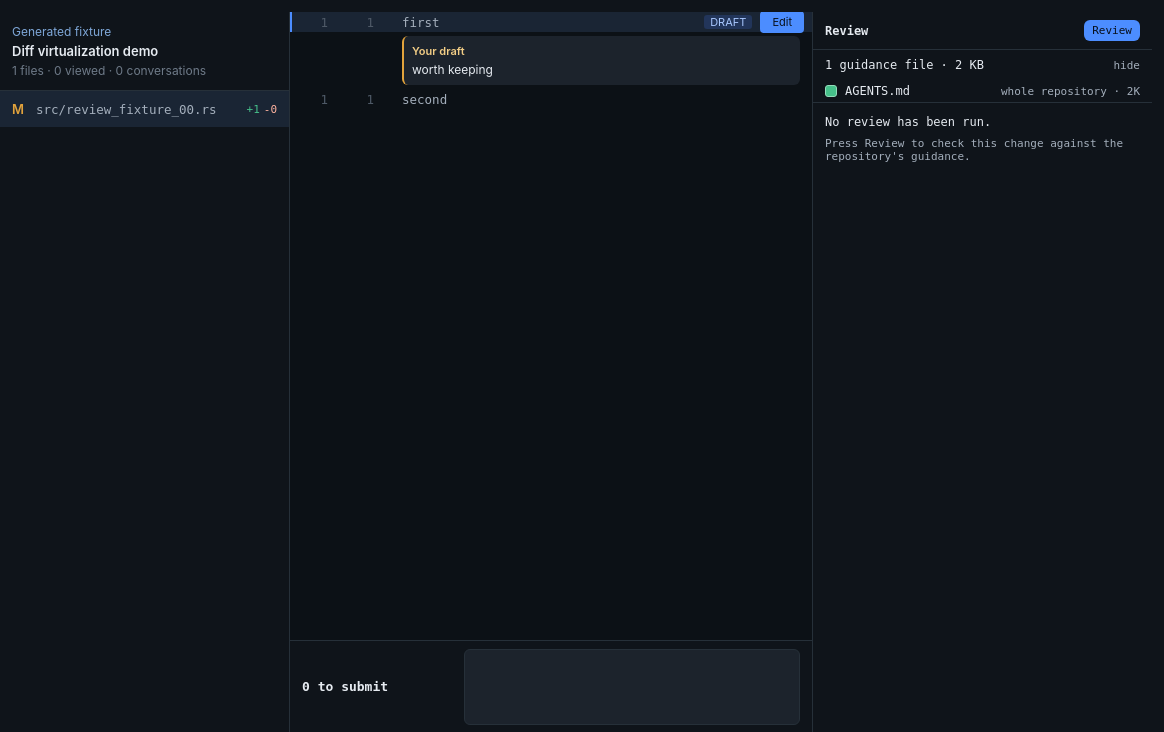
Test: the review panel in a Session › shows what a refused toggle said, leaving the diff and the composer alone
This screenshot has width=1164, height=732.
Expected: the button "Review" is shown, [1084,20,1140,41]
Type keys "c"
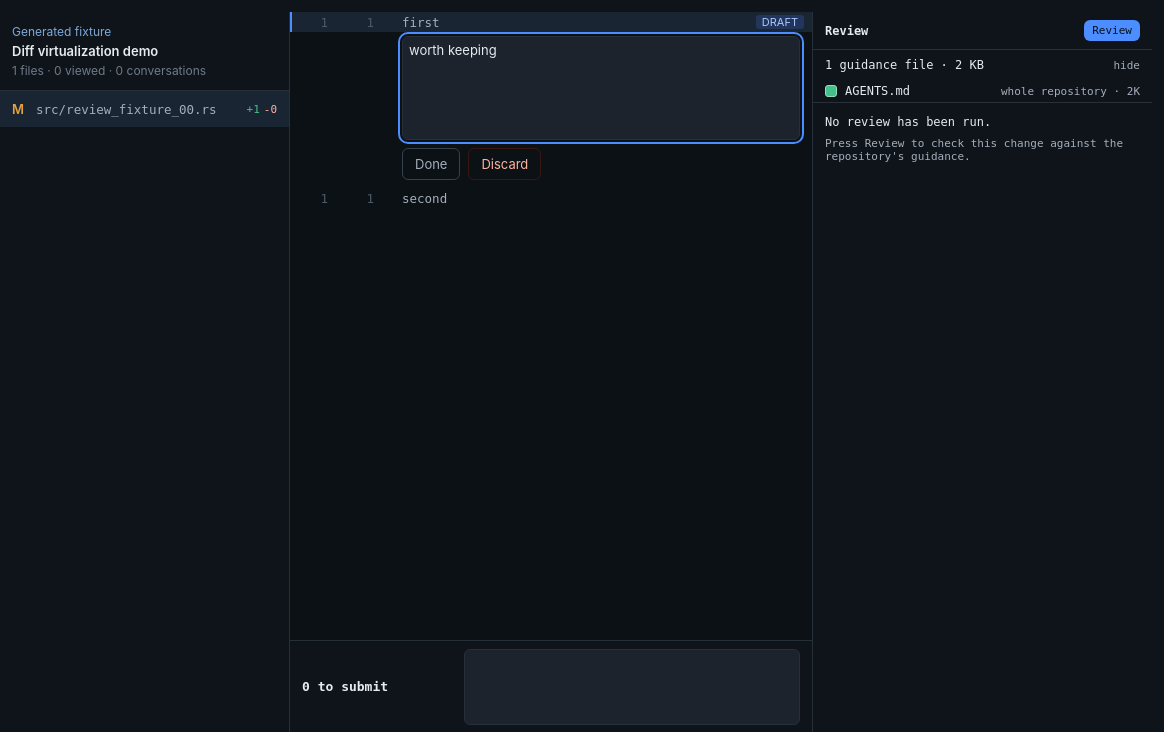
Expected: the field with class "cm-content" reads "worth keeping", [409,42,497,58]
Click the button "AGENTS.md whole repository · 2K".
click(878, 91)  # box [813,80,1152,102]
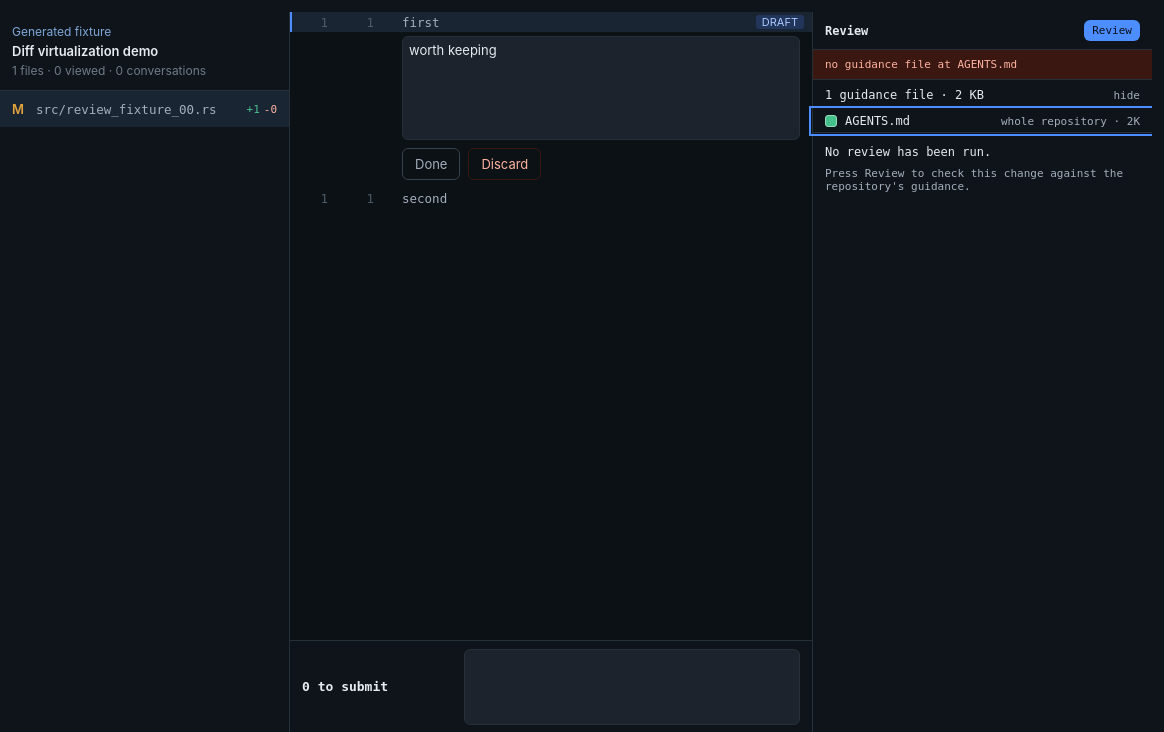
Expected: the text "first" is shown, [402,14,440,30]
Expected: the text "no guidance file at AGENTS.md" is shown, [813,50,1152,80]
